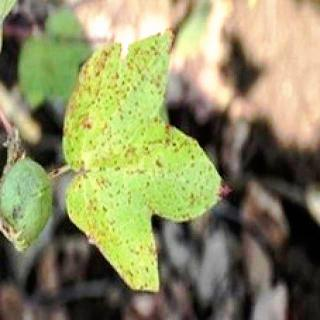leaf spot: (61, 25, 229, 292)
